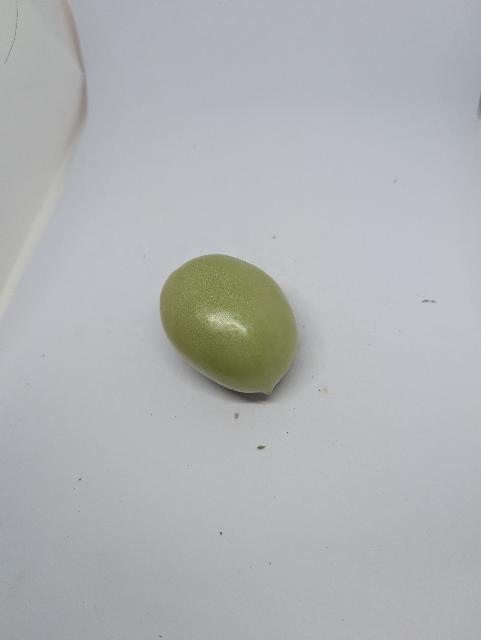green: (156, 252, 300, 398)
